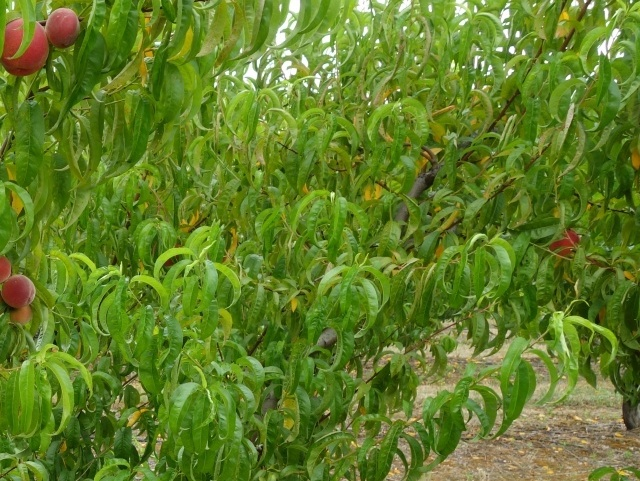peach: (1, 14, 49, 81), (40, 6, 87, 48), (546, 222, 583, 259), (1, 274, 40, 308), (2, 297, 40, 331), (1, 252, 15, 285)
